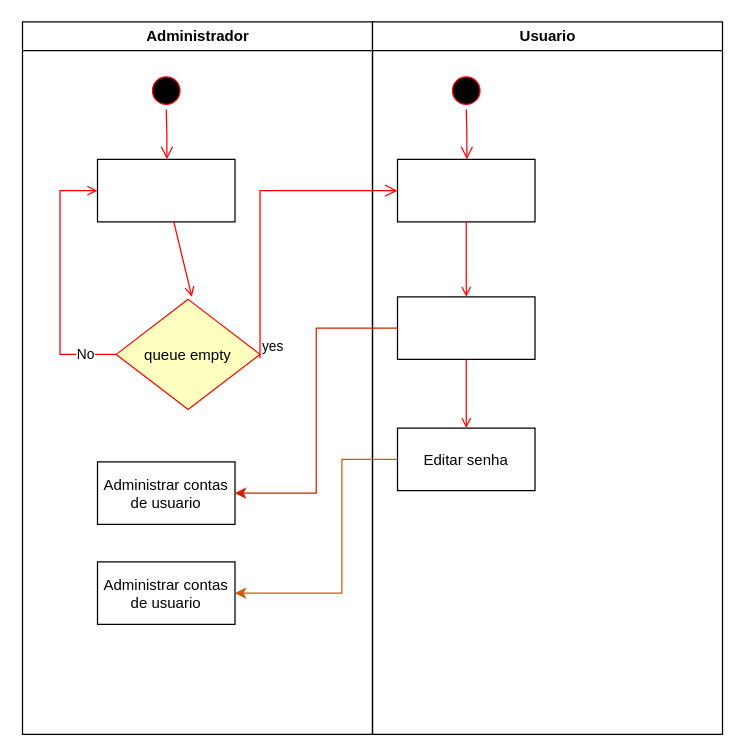
This 744x756 diagram has some shape labels left out. Here are the shapes that lost their labels. From the top down, the centre of each, then its label:
the point at 165,190: Criar conta
the point at 465,190: Fazer login
the point at 465,327: Editar perfil
